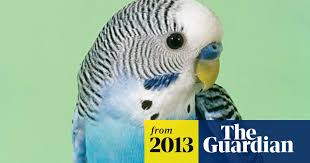budgie: (74, 1, 238, 120)
